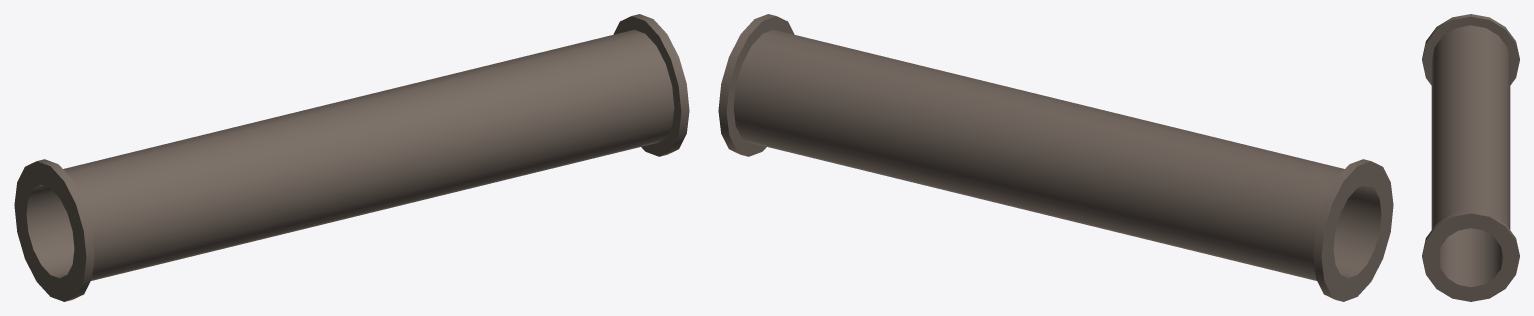
File: pipe_1.fbx
The picture shows the model from 3 angles, left to right: view 1: azimuth 30°, elevation 25°; view 2: azimuth 150°, elevation 25°; view 3: azimuth 270°, elevation 25°; orthographic projection. The views are drawn at different scales.
Parts seen in each view (by area): view 1: pipe_1; view 2: pipe_1; view 3: pipe_1.
Boxes of the visible parts, x1,y1,x2,y2 form: pipe_1: (14, 14, 689, 301); pipe_1: (718, 14, 1393, 301); pipe_1: (1422, 14, 1519, 301).
Bounding box in the file's own units: 1200 × 248 × 248.
